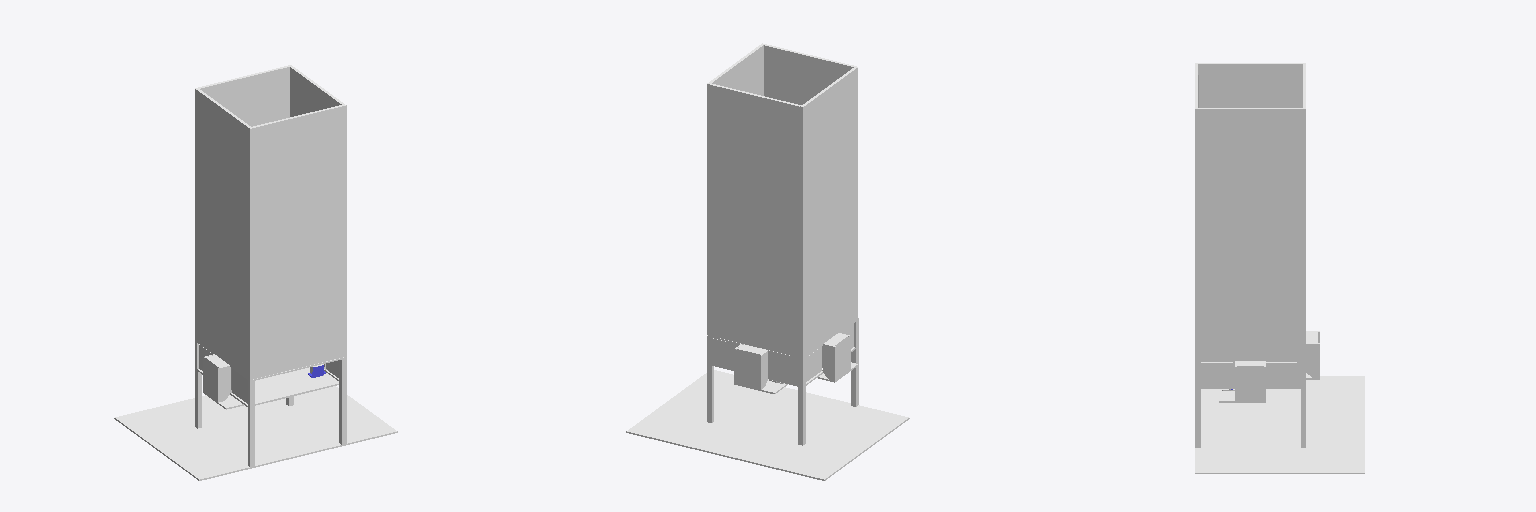
Rendered from DomotiPet.obj.
3 views of the same model, side by side, from view 1: azimuth 30°, elevation 25°; view 2: azimuth 150°, elevation 25°; view 3: azimuth 270°, elevation 25° (orthographic).
Visible parts, largest first — view 1: Mesh14 Group6 Model, Mesh16 plaques_cot_1 Groupe_2_1 Group8 Model, Mesh21 plateau1 Model, Mesh15 Group7 Model, Mesh1 Group1 Model, Mesh41 Composant_2_1 Model, Mesh34 Bac_verseur1 Model, Mesh18 pied2 Model, Mesh17 pied1 Model; view 2: Mesh15 Group7 Model, Mesh21 plateau1 Model, Mesh16 plaques_cot_1 Groupe_2_1 Group8 Model, Mesh14 Group6 Model, Mesh1 Group1 Model, Mesh35 Bac_verseur2 Model, Mesh34 Bac_verseur1 Model, Mesh23 plaques_z2 Model, Mesh19 pied3 Model, Mesh22 plaques_z1 Model; view 3: Mesh1 Group1 Model, Mesh21 plateau1 Model, Mesh16 plaques_cot_1 Groupe_2_1 Group8 Model, Mesh36 Bac_verseur3 Model, Mesh27 plaques_z6 Model, Mesh26 plaques_z5 Model, Mesh35 Bac_verseur2 Model.
Part boxes in pixels (left/top/right/bottom): Mesh14 Group6 Model: left=252, top=105, right=343, bottom=378; Mesh16 plaques_cot_1 Groupe_2_1 Group8 Model: left=195, top=88, right=252, bottom=379; Mesh21 plateau1 Model: left=114, top=386, right=397, bottom=480; Mesh15 Group7 Model: left=198, top=66, right=289, bottom=126; Mesh1 Group1 Model: left=288, top=65, right=346, bottom=356; Mesh41 Composant_2_1 Model: left=197, top=367, right=338, bottom=406; Mesh34 Bac_verseur1 Model: left=203, top=354, right=229, bottom=402; Mesh18 pied2 Model: left=339, top=358, right=346, bottom=444; Mesh17 pied1 Model: left=248, top=380, right=254, bottom=466; Mesh15 Group7 Model: left=710, top=83, right=801, bottom=357; Mesh21 plateau1 Model: left=626, top=370, right=909, bottom=480; Mesh16 plaques_cot_1 Groupe_2_1 Group8 Model: left=800, top=66, right=857, bottom=358; Mesh14 Group6 Model: left=764, top=44, right=854, bottom=104; Mesh1 Group1 Model: left=707, top=43, right=763, bottom=335; Mesh35 Bac_verseur2 Model: left=734, top=344, right=767, bottom=389; Mesh34 Bac_verseur1 Model: left=823, top=333, right=850, bottom=380; Mesh23 plaques_z2 Model: left=768, top=352, right=797, bottom=384; Mesh19 pied3 Model: left=798, top=359, right=805, bottom=445; Mesh22 plaques_z1 Model: left=711, top=338, right=738, bottom=368; Mesh1 Group1 Model: left=1195, top=108, right=1305, bottom=360; Mesh21 plateau1 Model: left=1195, top=376, right=1364, bottom=473; Mesh16 plaques_cot_1 Groupe_2_1 Group8 Model: left=1195, top=63, right=1305, bottom=107; Mesh36 Bac_verseur3 Model: left=1235, top=361, right=1265, bottom=400; Mesh27 plaques_z6 Model: left=1266, top=362, right=1300, bottom=387; Mesh26 plaques_z5 Model: left=1201, top=362, right=1234, bottom=387; Mesh35 Bac_verseur2 Model: left=1306, top=331, right=1319, bottom=377.
Bounding box in the file's own units: 412 × 676 × 306.